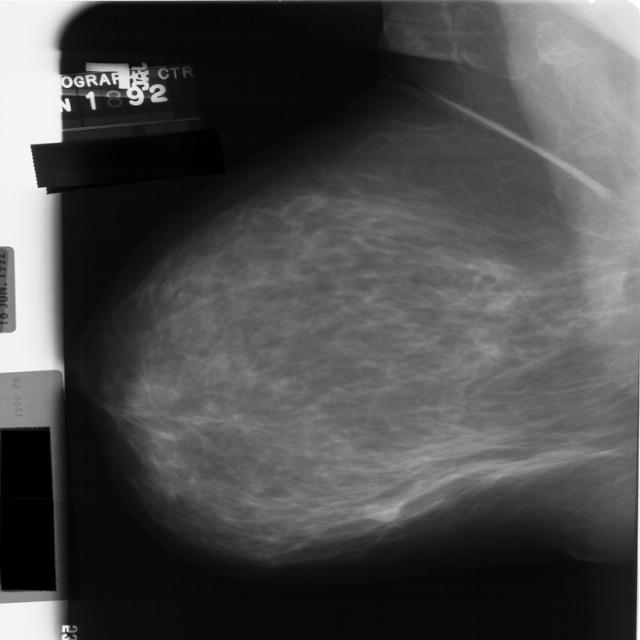tumour: (361, 501, 401, 522)
